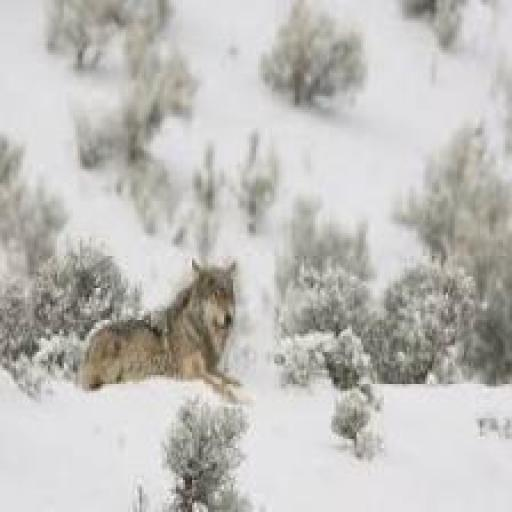wolf: (66, 244, 257, 431)
